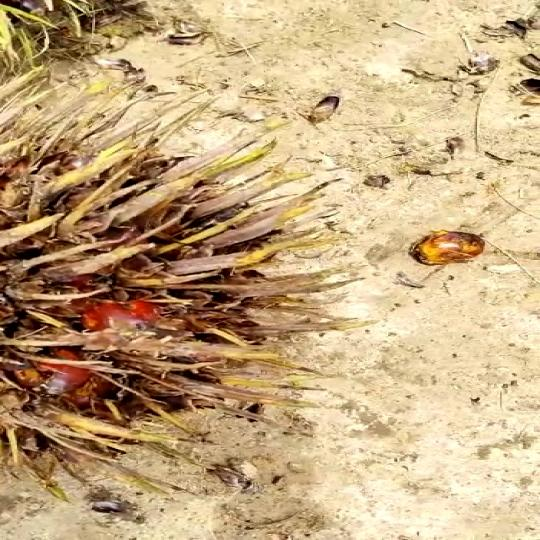terlalu masak: (0, 95, 374, 527)
